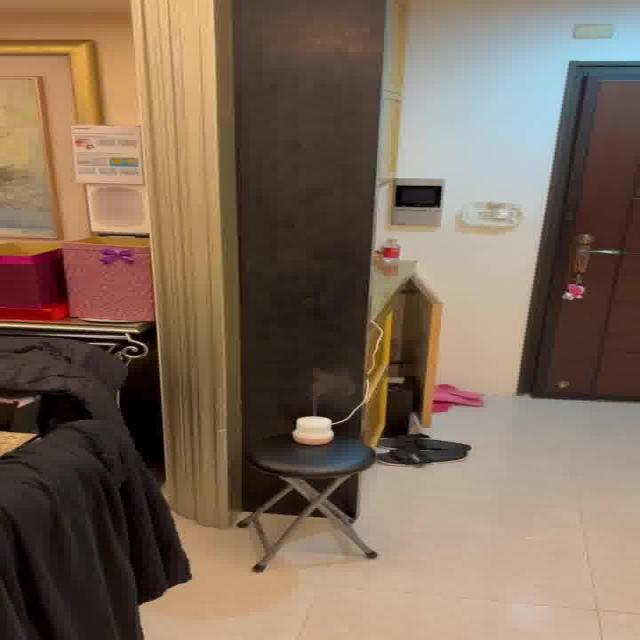fire: (301, 368, 347, 409)
